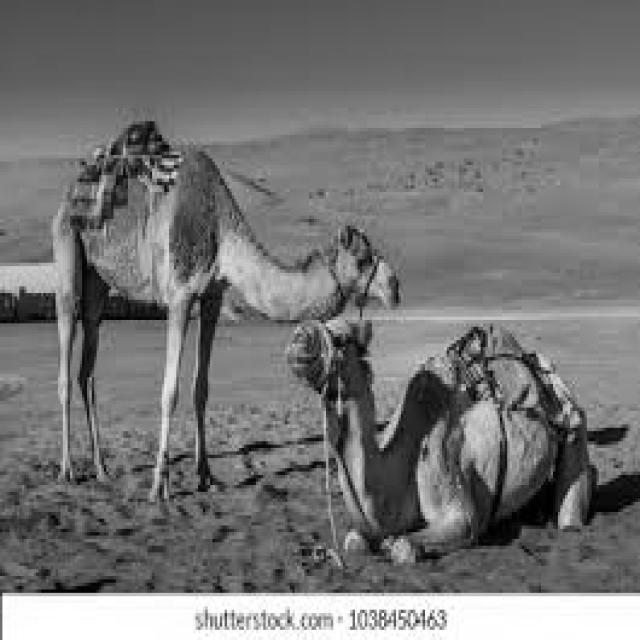Camel: (48, 128, 401, 505), (285, 313, 597, 566)
